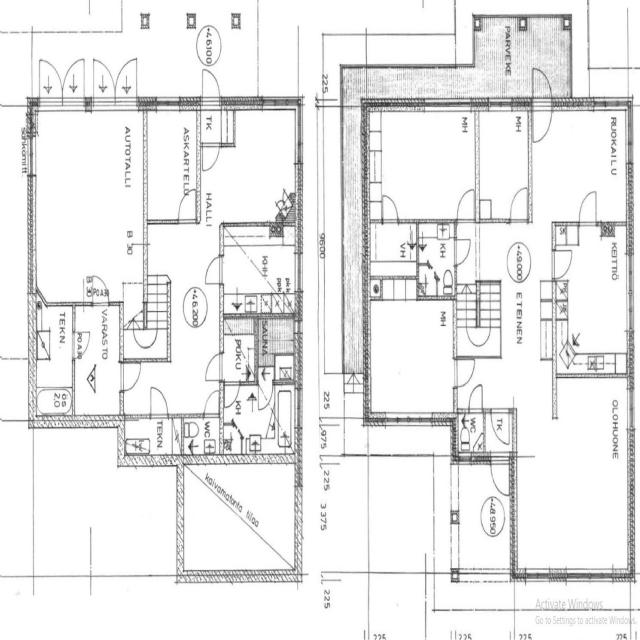door: (39, 60, 62, 110), (62, 60, 84, 110), (115, 61, 137, 110), (94, 61, 115, 110), (533, 98, 551, 142), (533, 67, 551, 111), (491, 452, 509, 495), (202, 68, 220, 110), (491, 409, 509, 443), (178, 191, 196, 224), (202, 143, 220, 175), (203, 257, 224, 283), (457, 191, 474, 223), (204, 354, 224, 381), (453, 359, 473, 386), (552, 251, 572, 278), (580, 193, 596, 226), (92, 275, 109, 306), (120, 364, 140, 390), (151, 386, 167, 418), (511, 192, 527, 224), (72, 332, 90, 358), (258, 379, 273, 409), (454, 240, 472, 264), (384, 194, 398, 223), (204, 391, 218, 419), (225, 382, 239, 409), (469, 388, 482, 413)
